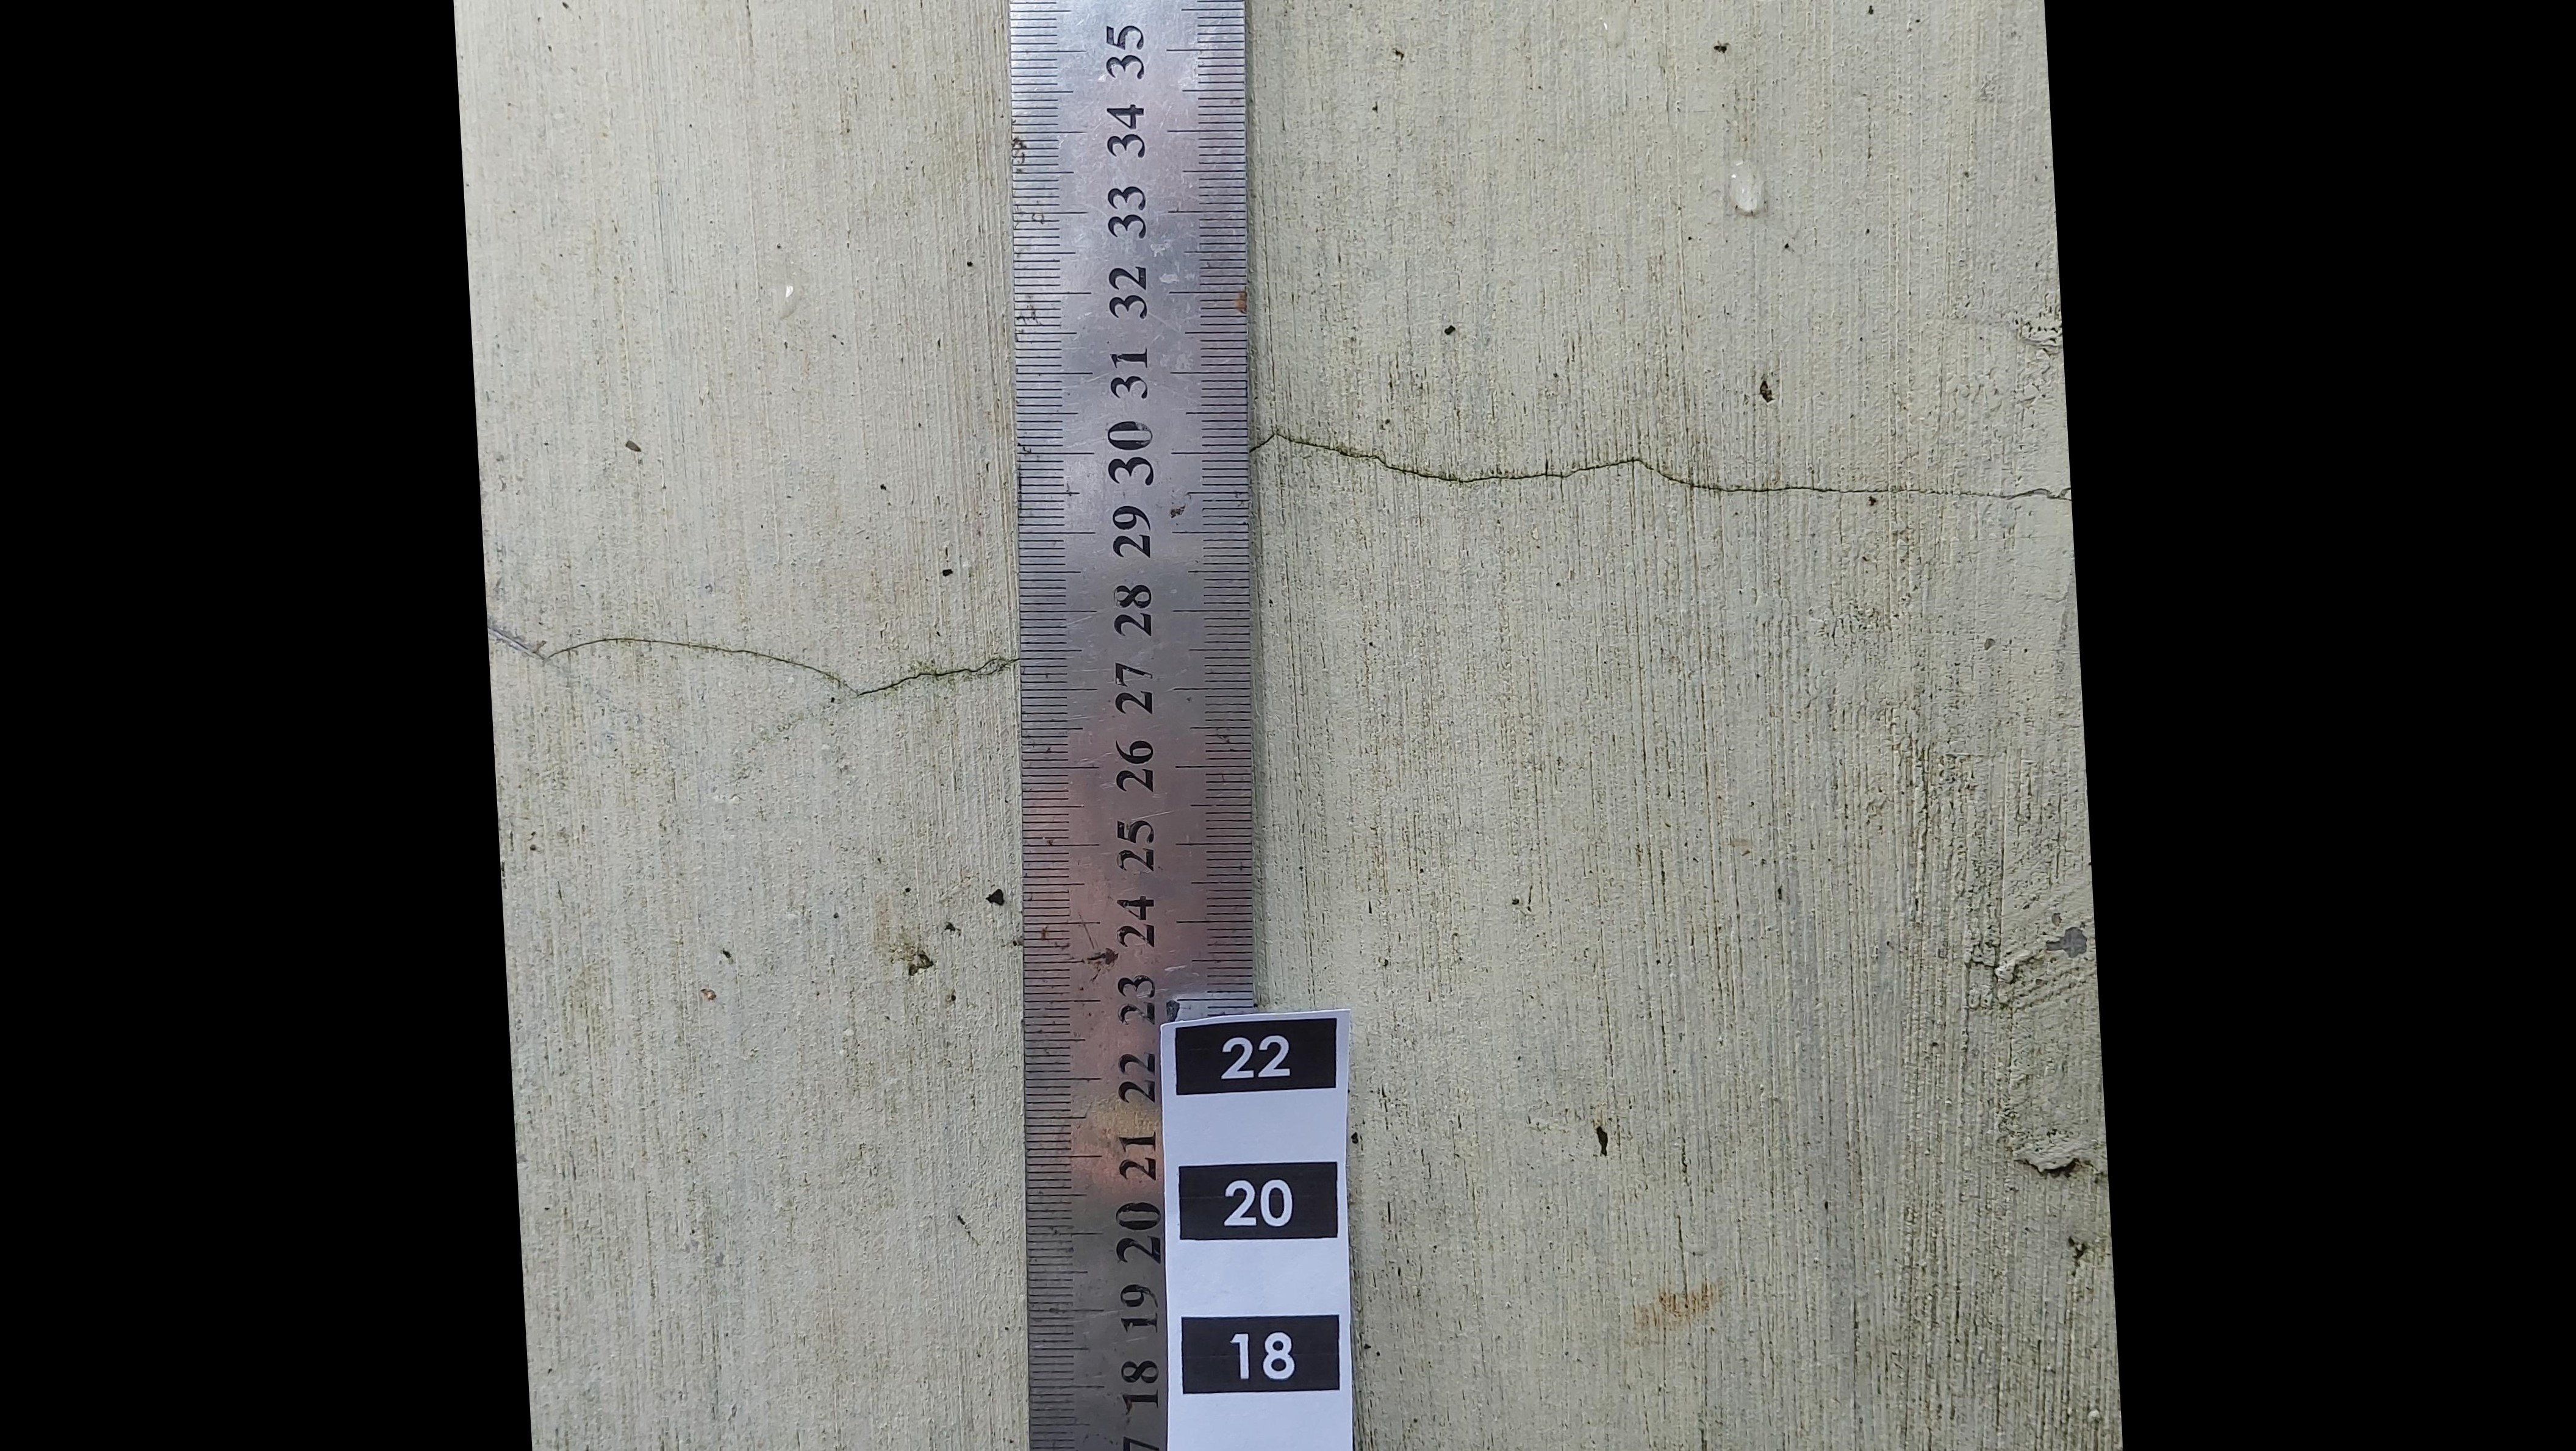kotak_2x1: (1184, 1315, 1338, 1396), (1178, 1163, 1334, 1242), (1175, 1021, 1338, 1095)
